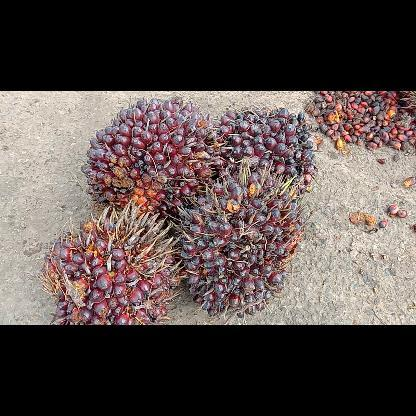Kurang masak: (174, 159, 308, 321), (35, 196, 188, 324), (212, 103, 322, 199)
TBS masak: (78, 94, 218, 228)
